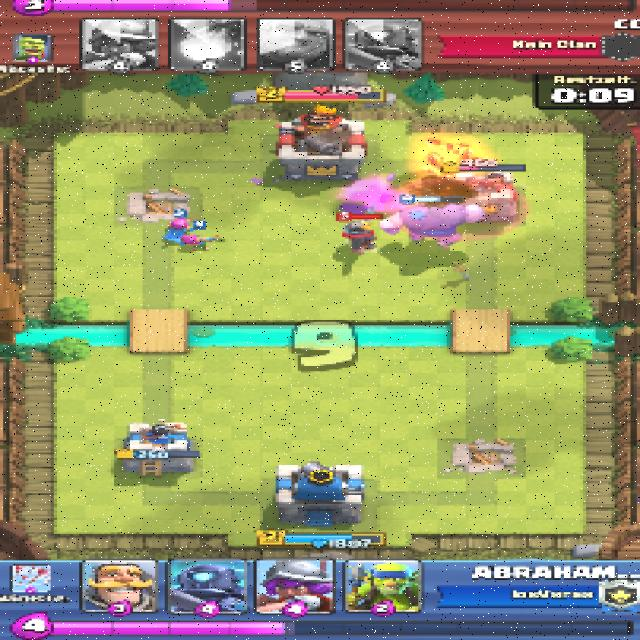Enemy-Knight: (338, 217, 381, 251)
Player-Archer: (158, 215, 192, 242), (174, 234, 213, 252)
Player-Fireball: (406, 163, 512, 220)
Player-Giant: (386, 198, 482, 248)
